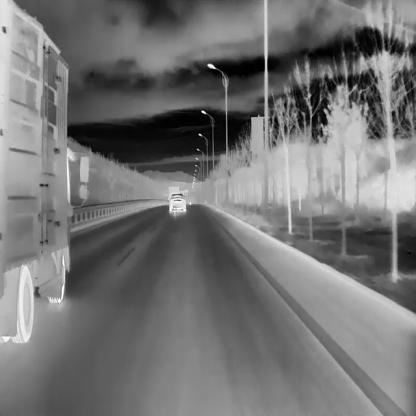car: (0, 0, 88, 343), (169, 193, 186, 211), (168, 186, 178, 205)
